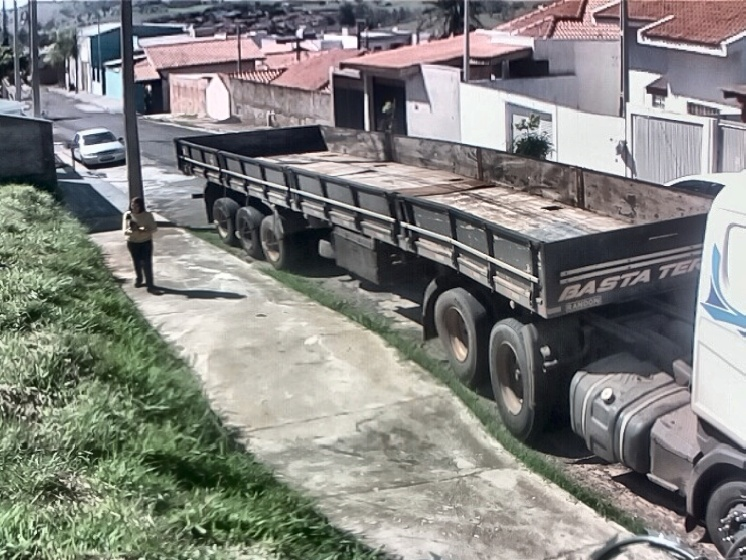person: (120, 195, 175, 297)
